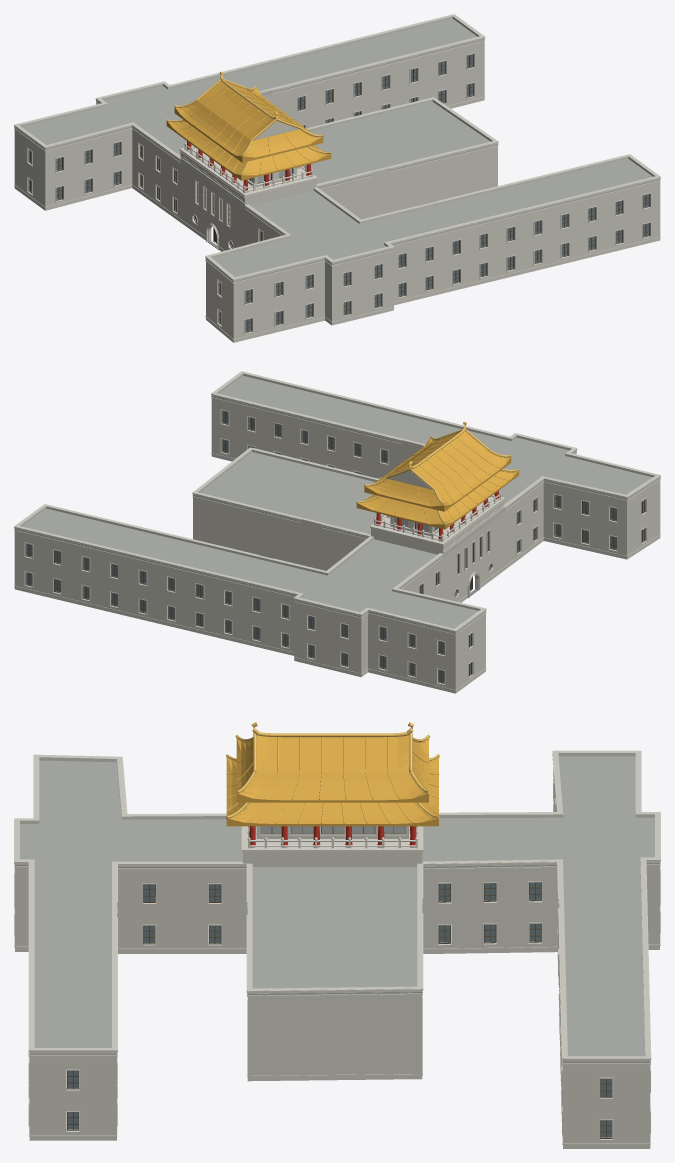
The model's file is yangpu-former-shanghai-city-museum-lod.glb.
3 renders of one model, top to bottom at view 1: azimuth 30°, elevation 25°; view 2: azimuth 150°, elevation 25°; view 3: azimuth 270°, elevation 25°, orthographic. The views are drawn at different scales.
Visible parts, largest first — view 1: 旧上海市博物馆江湾馆舍; view 2: 旧上海市博物馆江湾馆舍; view 3: 旧上海市博物馆江湾馆舍.
Part boxes in pixels (bbox=[...]): 旧上海市博物馆江湾馆舍: bbox=[14, 14, 660, 342]; 旧上海市博物馆江湾馆舍: bbox=[14, 371, 660, 693]; 旧上海市博物馆江湾馆舍: bbox=[14, 722, 660, 1148].
Size of the model in its own units: 76.66 by 23.96 by 68.
